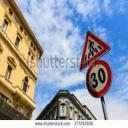speed_limit_30: (86, 58, 112, 100)
